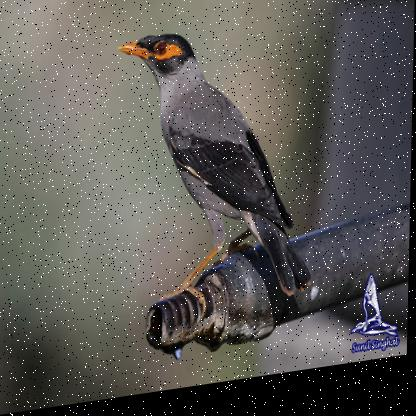Burung: (111, 14, 317, 325)
